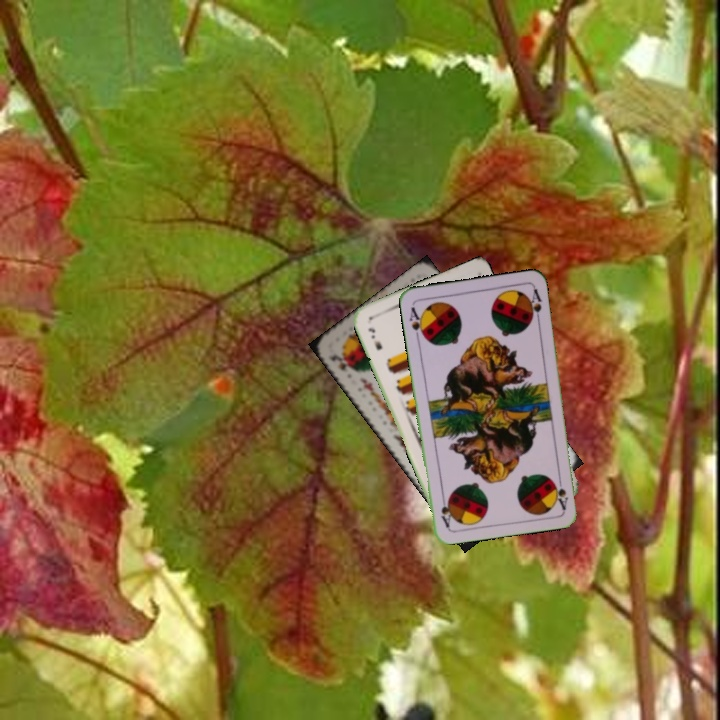E7: (364, 324, 385, 353)
SA: (405, 303, 428, 342), (551, 471, 571, 512)
SK: (326, 350, 357, 374)
